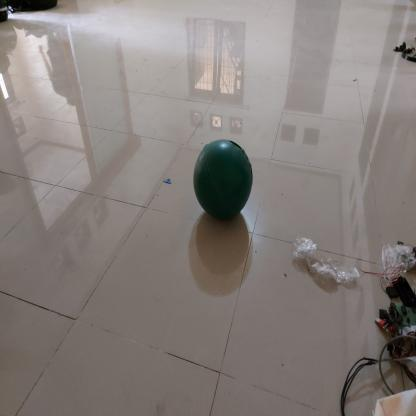green_buoy: (190, 136, 255, 224)
